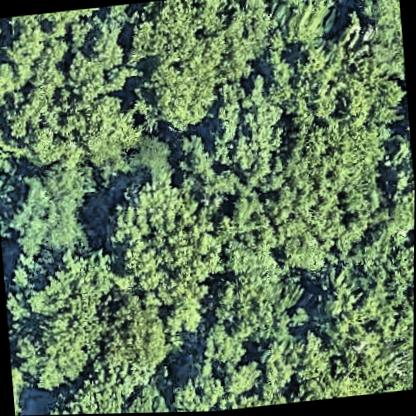tree-top: (223, 147, 379, 276), (101, 171, 225, 305), (2, 260, 115, 400), (278, 41, 405, 164), (130, 0, 242, 138), (11, 74, 145, 178), (312, 235, 415, 358), (203, 76, 298, 193), (296, 303, 393, 403), (5, 165, 100, 259), (0, 12, 70, 133), (202, 264, 302, 347), (9, 309, 99, 399), (91, 293, 177, 385), (41, 365, 146, 415), (57, 5, 127, 80), (192, 338, 267, 403), (250, 327, 314, 399), (152, 274, 216, 341), (264, 0, 338, 51), (162, 364, 228, 413), (196, 318, 255, 372), (351, 0, 403, 52), (216, 354, 264, 397), (121, 379, 173, 414), (385, 179, 415, 237), (12, 379, 34, 416), (0, 17, 5, 62)
